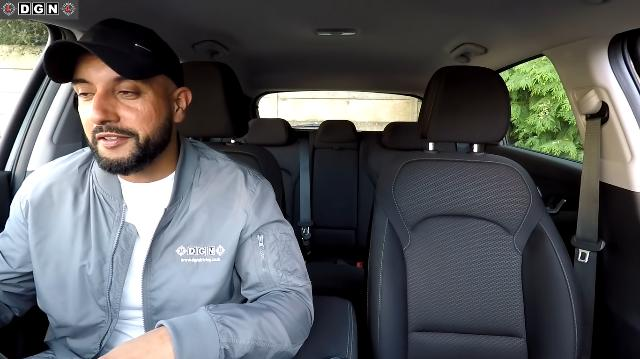no seatbelt: (32, 130, 275, 359)
